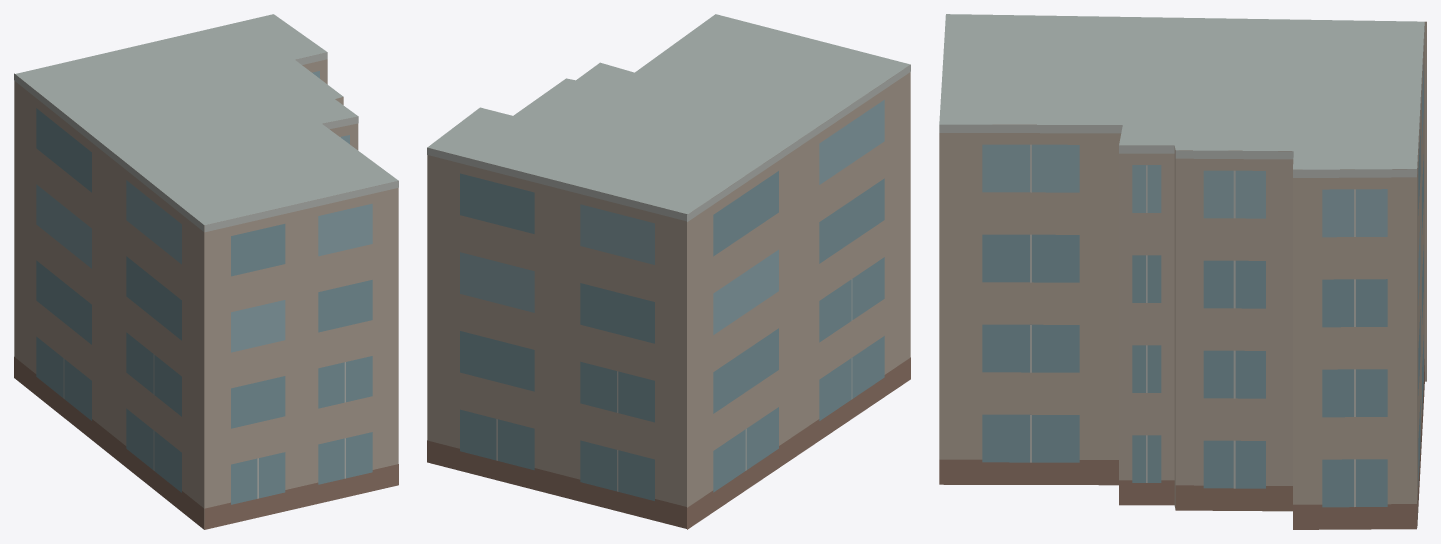
File: survey-upis-32625600.glb
The picture shows the model from 3 angles, left to right: view 1: azimuth 30°, elevation 25°; view 2: azimuth 150°, elevation 25°; view 3: azimuth 270°, elevation 25°; orthographic projection. The views are drawn at different scales.
Parts seen in each view (by area): view 1: survey-upis-32625600.tmp; view 2: survey-upis-32625600.tmp; view 3: survey-upis-32625600.tmp.
Boxes of the visible parts, bbox=[...] form: survey-upis-32625600.tmp: bbox=[14, 14, 398, 529]; survey-upis-32625600.tmp: bbox=[427, 14, 910, 529]; survey-upis-32625600.tmp: bbox=[939, 14, 1426, 529].
Bounding box in the file's own units: 9.75 × 10.5 × 12.89.
